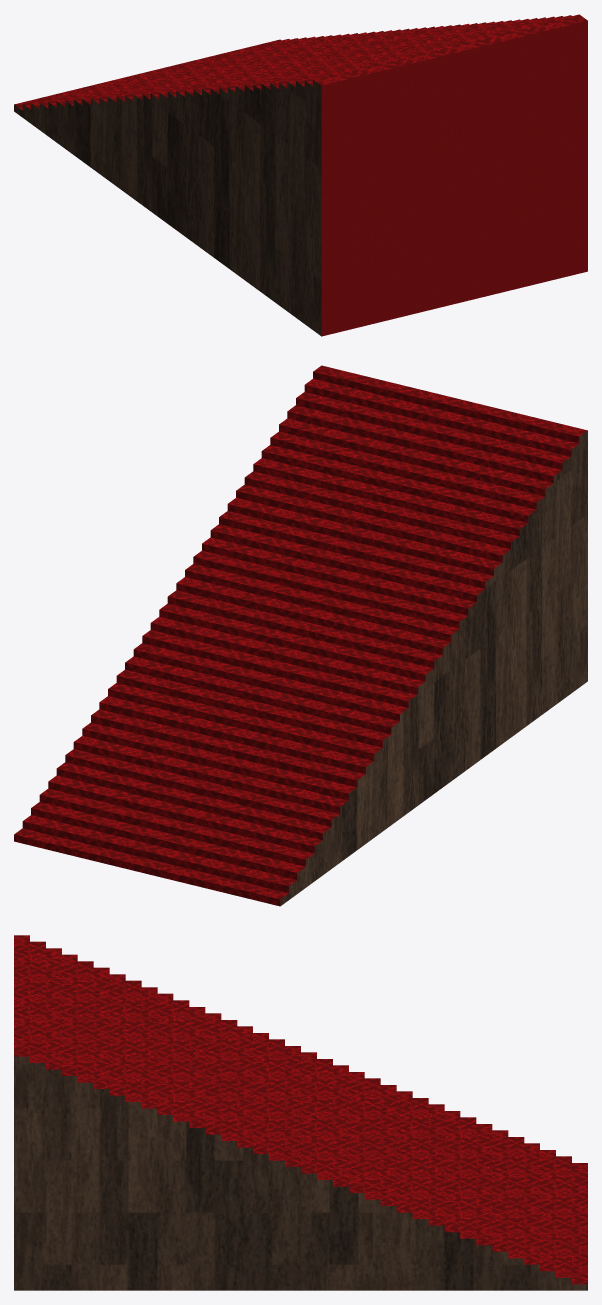
File: Stairs.fbx
The picture shows the model from 3 angles, top to bottom: view 1: azimuth 30°, elevation 25°; view 2: azimuth 150°, elevation 25°; view 3: azimuth 270°, elevation 25°; orthographic projection. The views are drawn at different scales.
Visible parts, largest first — view 1: Stairs; view 2: Stairs; view 3: Stairs.
Boxes of the visible parts, box(x1,y1,x2,y2) form: Stairs: box(14, 14, 587, 336); Stairs: box(14, 365, 587, 906); Stairs: box(14, 935, 587, 1290).
Size of the model in its own units: 1000 by 900 by 2000.
